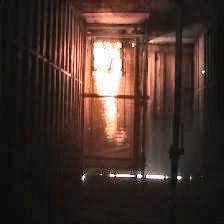fire: (84, 38, 130, 151)
